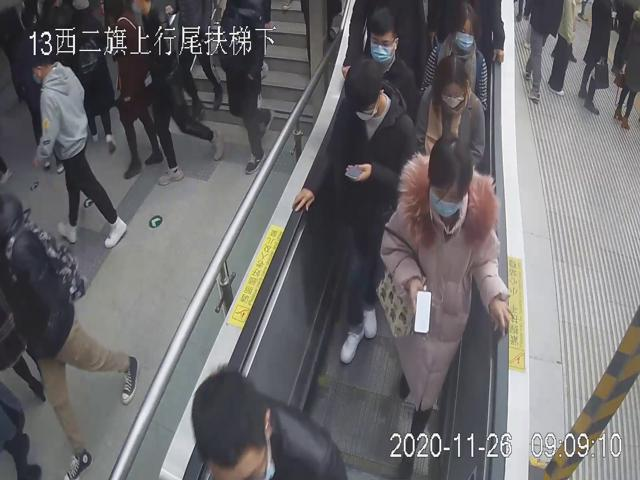person: (379, 132, 511, 470), (291, 55, 414, 369), (24, 34, 127, 250), (339, 3, 417, 124), (409, 56, 487, 173), (421, 0, 488, 109)
